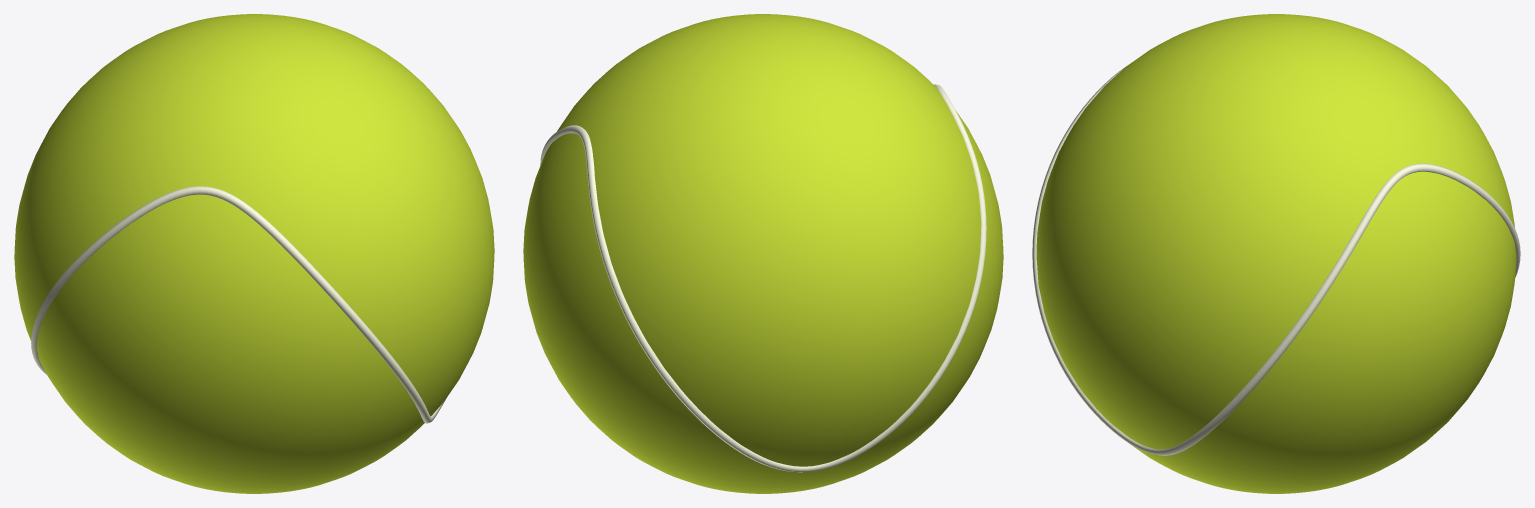
The model's file is tennis_ball.glb.
3 renders of one model, left to right at view 1: azimuth 30°, elevation 25°; view 2: azimuth 150°, elevation 25°; view 3: azimuth 270°, elevation 25°, orthographic.
Parts seen in each view (by area): view 1: Yellow-green felt tennis ball, Continuous curved tennis ball seam; view 2: Yellow-green felt tennis ball, Continuous curved tennis ball seam; view 3: Yellow-green felt tennis ball, Continuous curved tennis ball seam.
Boxes of the visible parts, box(x1,y1,x2,y2) form: Yellow-green felt tennis ball: box(14, 14, 494, 493); Continuous curved tennis ball seam: box(31, 186, 446, 423); Yellow-green felt tennis ball: box(523, 14, 1003, 493); Continuous curved tennis ball seam: box(540, 84, 986, 472); Yellow-green felt tennis ball: box(1036, 14, 1516, 493); Continuous curved tennis ball seam: box(1032, 67, 1520, 455).
Size of the model in its own units: 0.0681 by 0.067 by 0.0681.
